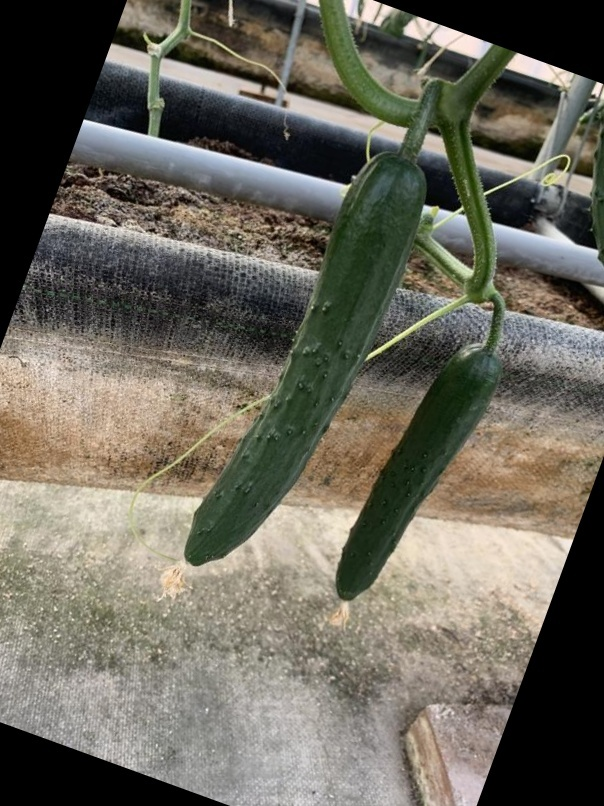mature: (179, 152, 435, 585), (333, 342, 503, 604)
